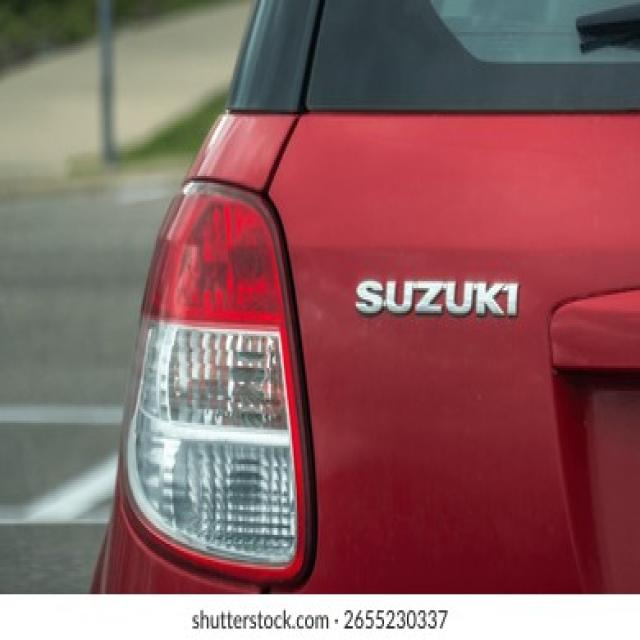suzuki: (351, 273, 535, 325)
